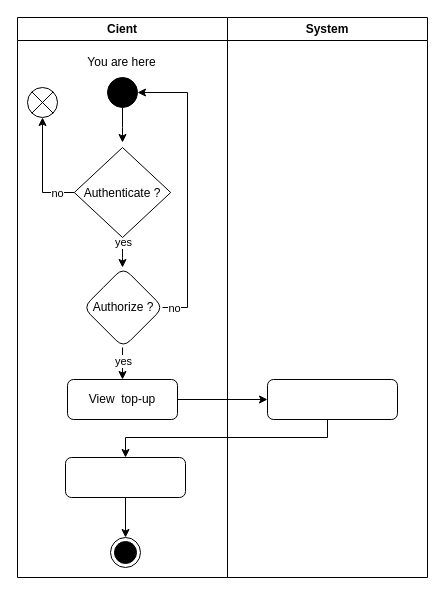
The diagram is 445 pixels wide and 595 high, and some of its shapes have lost their labels. The centre of each missing label's shape, as x and y in pixels:
"Display top-up information" belongs at pixel 125 477.
"Fetch individual top-up information" belongs at pixel 332 399.
